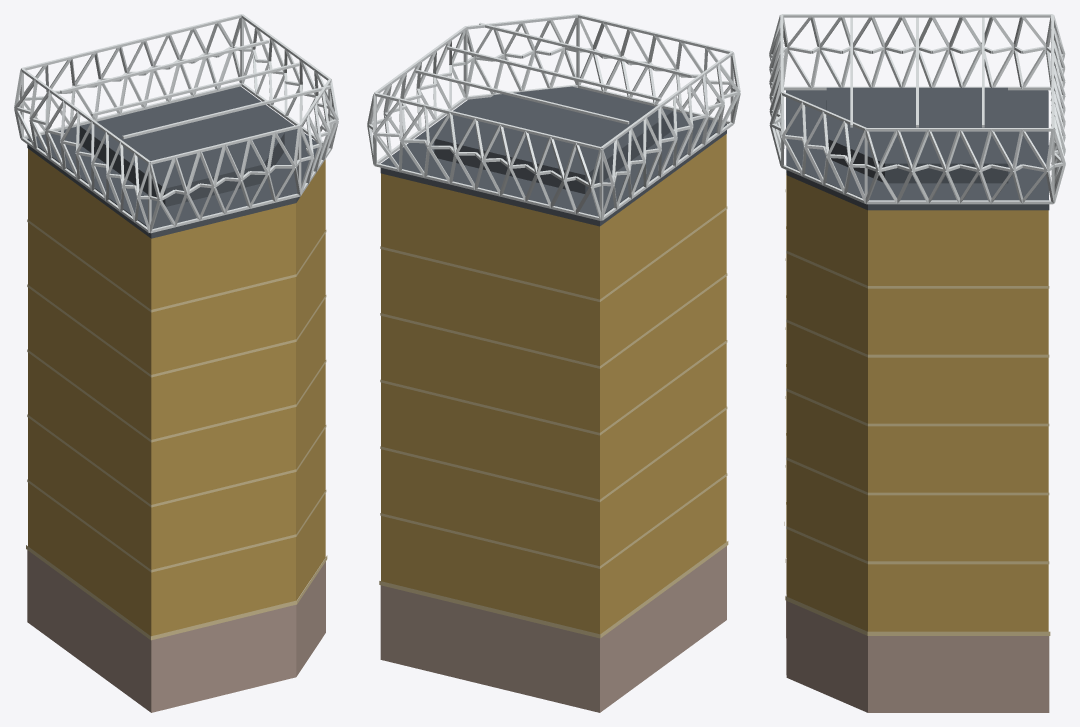
The model's file is tokyo-asahi-beer-tower.glb.
The picture shows the model from 3 angles, left to right: view 1: azimuth 30°, elevation 25°; view 2: azimuth 150°, elevation 25°; view 3: azimuth 270°, elevation 25°; orthographic projection. The views are drawn at different scales.
Visible parts, largest first — view 1: Asahi Beer Tower; view 2: Asahi Beer Tower; view 3: Asahi Beer Tower.
Part boxes in pixels (x1,y1,x2,y2): Asahi Beer Tower: (14, 14, 338, 712); Asahi Beer Tower: (367, 14, 740, 712); Asahi Beer Tower: (769, 14, 1065, 712).
Bounding box in the file's own units: 43.47 × 95.31 × 43.75.
